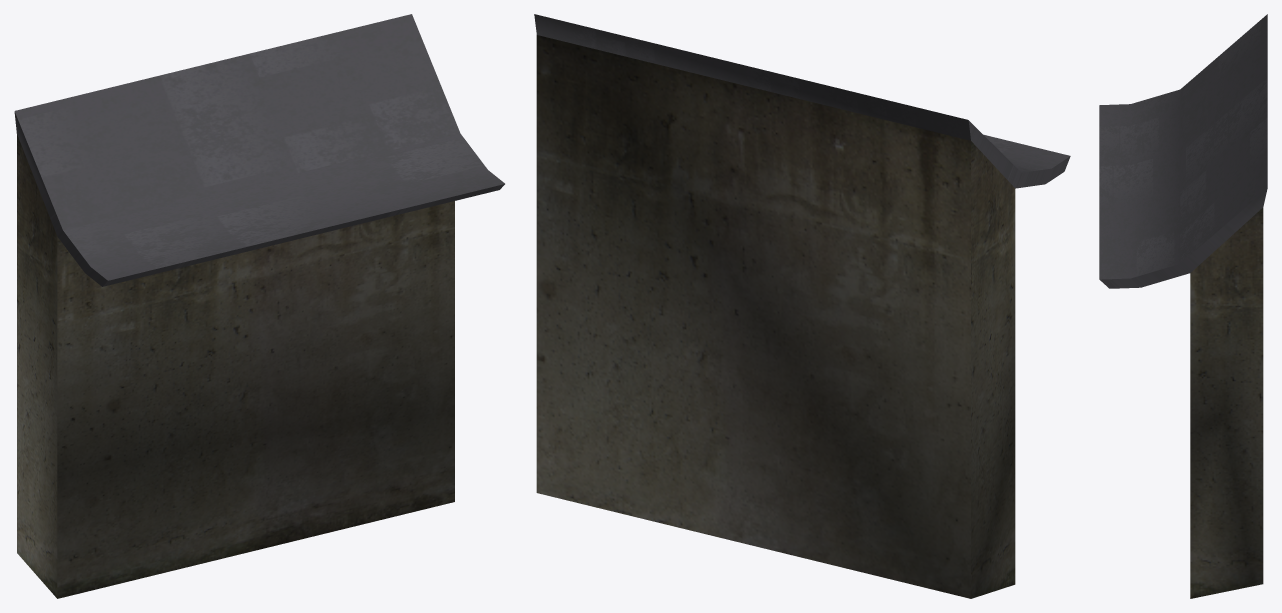
Rendered from Wall_Module_05.glb.
3 renders of one model, left to right at view 1: azimuth 30°, elevation 25°; view 2: azimuth 150°, elevation 25°; view 3: azimuth 270°, elevation 25°, orthographic. The views are drawn at different scales.
Visible parts, largest first — view 1: Wall_Module_05; view 2: Wall_Module_05; view 3: Wall_Module_05.
Part boxes in pixels (bbox=[...]): Wall_Module_05: bbox=[14, 14, 504, 598]; Wall_Module_05: bbox=[534, 14, 1070, 598]; Wall_Module_05: bbox=[1099, 14, 1267, 598].
Bounding box in the file's own units: 2.27 × 2.5 × 0.9268.
2 materials, 2 textured.
